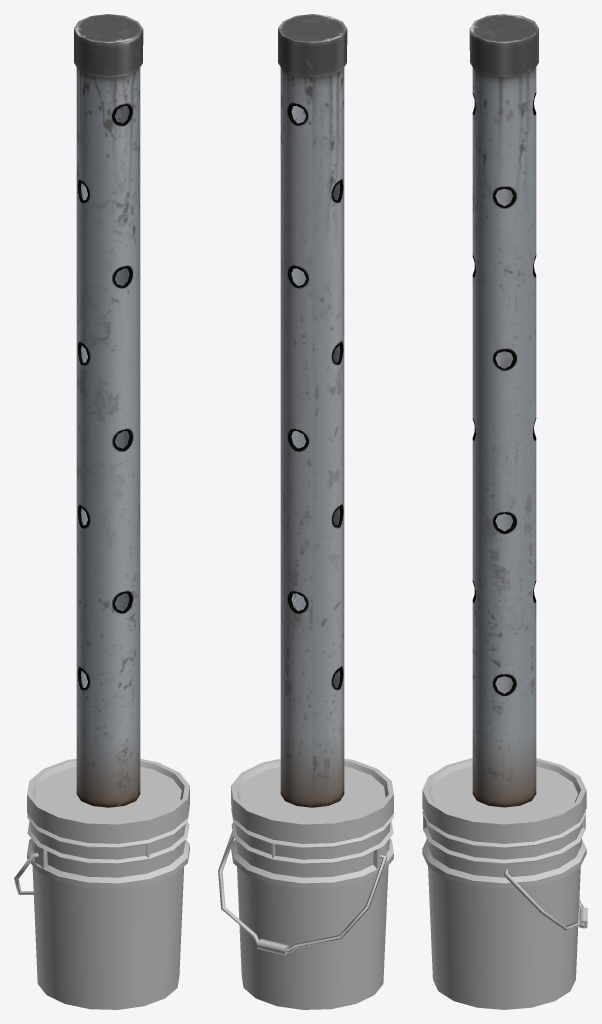
Rendered from hydroponics_tower01.fbx.
3 views of the same model, side by side, from view 1: azimuth 30°, elevation 25°; view 2: azimuth 150°, elevation 25°; view 3: azimuth 270°, elevation 25° (orthographic).
Visible parts, largest first — view 1: hydroponics_tower01; view 2: hydroponics_tower01; view 3: hydroponics_tower01.
Boxes of the visible parts, x1,y1,x2,y2 form: hydroponics_tower01: (14,14,189,1009); hydroponics_tower01: (218,14,393,1009); hydroponics_tower01: (422,14,587,1009).
Bounding box in the file's own units: 0.3259 × 1.98 × 0.3122.
